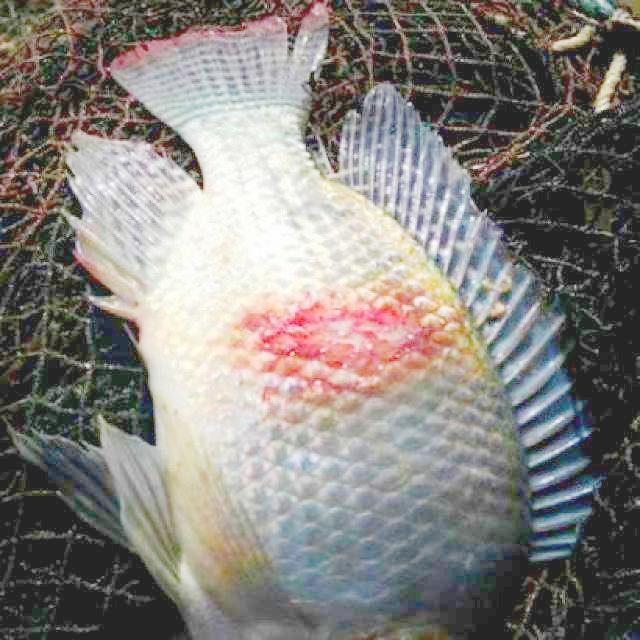Tilapia Lake Virus -TiLV-: (22, 9, 592, 640), (66, 3, 598, 639)
